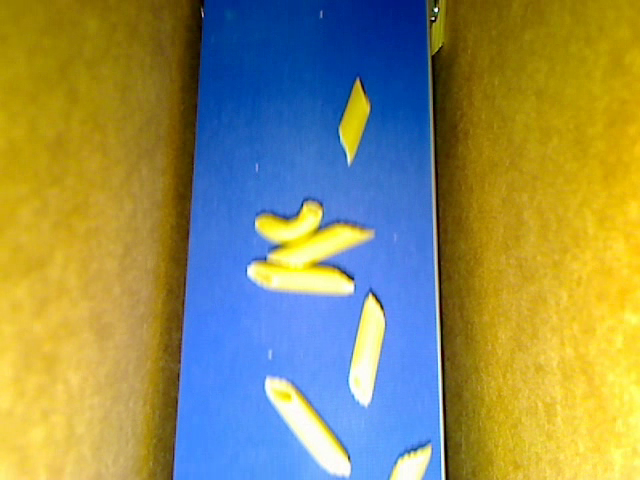elbow: (252, 196, 322, 241)
penne: (263, 370, 353, 479), (264, 219, 381, 267), (348, 288, 385, 406), (243, 262, 356, 298), (338, 80, 372, 166), (385, 443, 435, 479), (425, 1, 446, 59)
